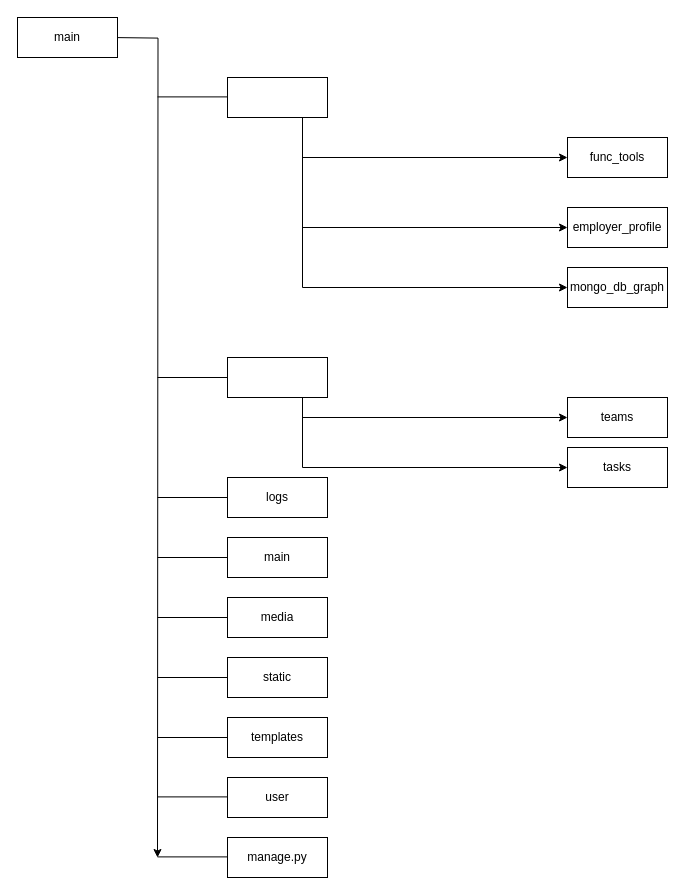
Image size: 685x895. Some labels were removed from this diagram. The shapes that lost their labels are listed below. From the top down, each one's centre as x and y in pixels, then its label:
[277,97]: dashboard
[277,377]: employer
